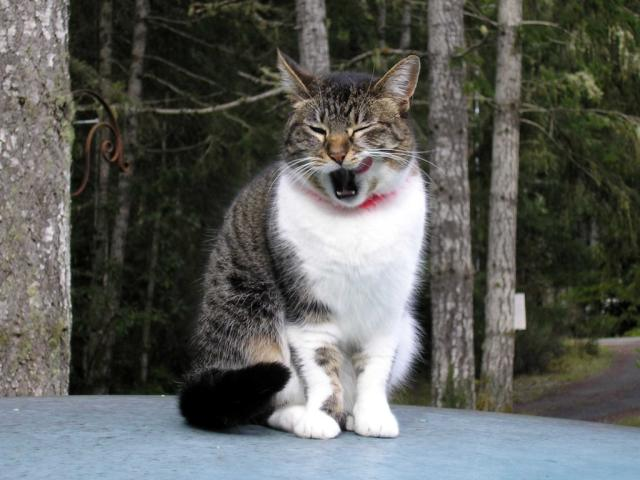Cat: (173, 47, 444, 443)
